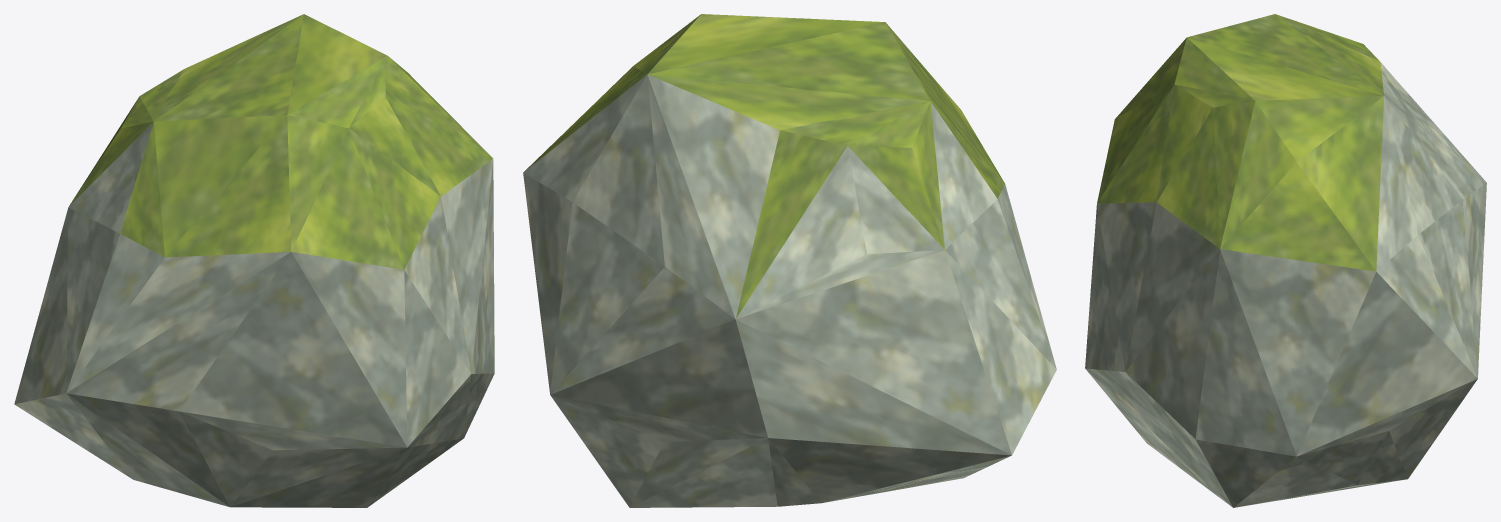
File: Rock_River_C.glb
The picture shows the model from 3 angles, left to right: view 1: azimuth 30°, elevation 25°; view 2: azimuth 150°, elevation 25°; view 3: azimuth 270°, elevation 25°; orthographic projection. The views are drawn at different scales.
Visible parts, largest first — view 1: Rock_River_C; view 2: Rock_River_C; view 3: Rock_River_C.
Part boxes in pixels (x1=…): Rock_River_C: x1=14, y1=14, x2=494, y2=507; Rock_River_C: x1=523, y1=14, x2=1056, y2=507; Rock_River_C: x1=1085, y1=14, x2=1486, y2=507.
Bounding box in the file's own units: 2.13 × 1.83 × 1.73.
Materials: 1 (1 with a texture image).
